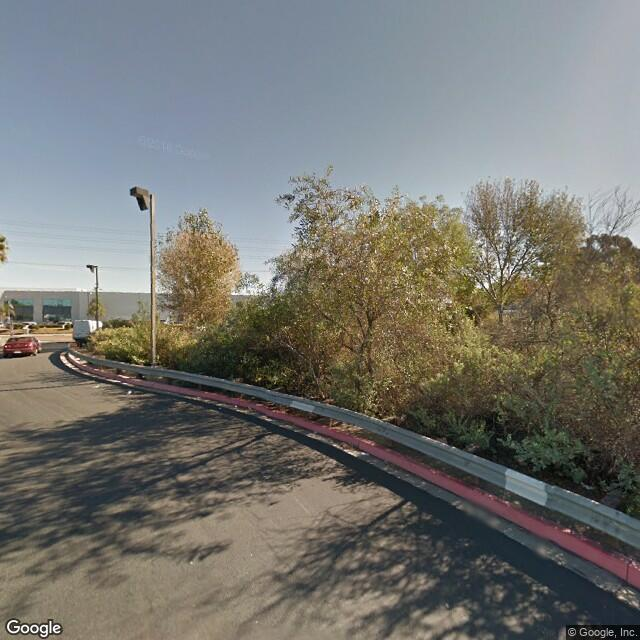litter: (126, 385, 140, 395)
